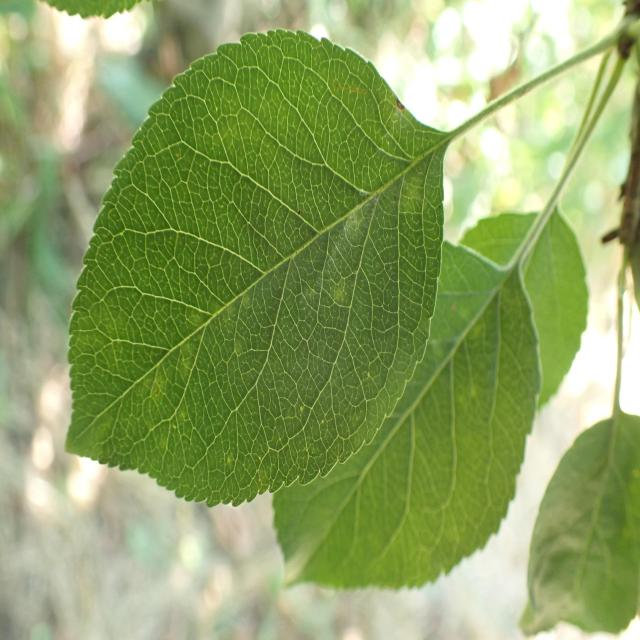Rust: (389, 80, 410, 124), (447, 295, 459, 320)
